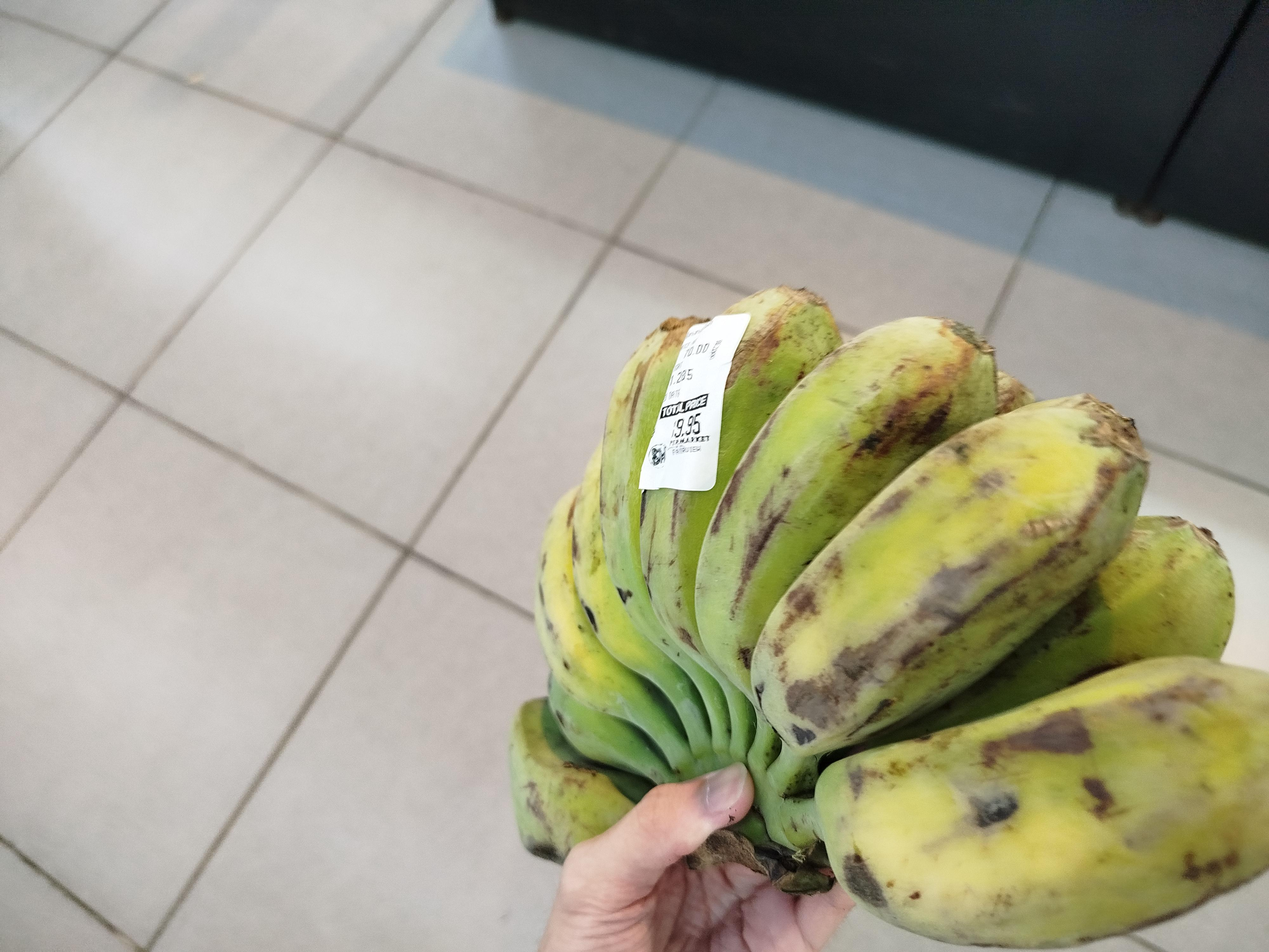underripe: (511, 287, 1269, 946)
